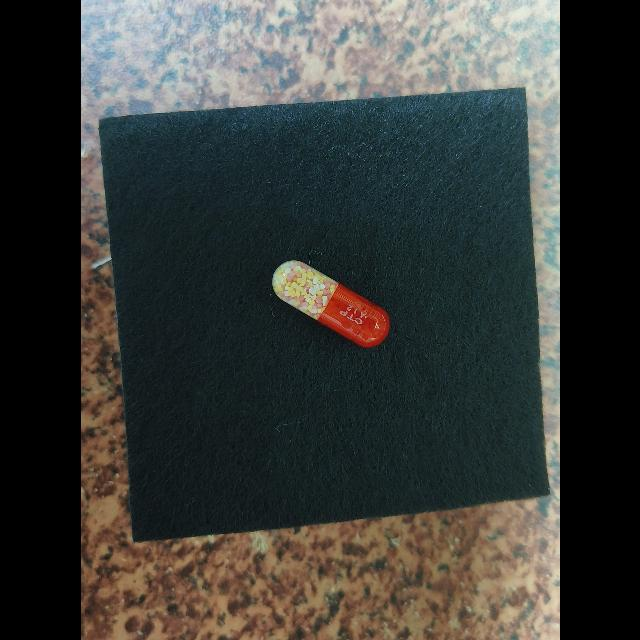Intact Capsule: (272, 260, 389, 348)
